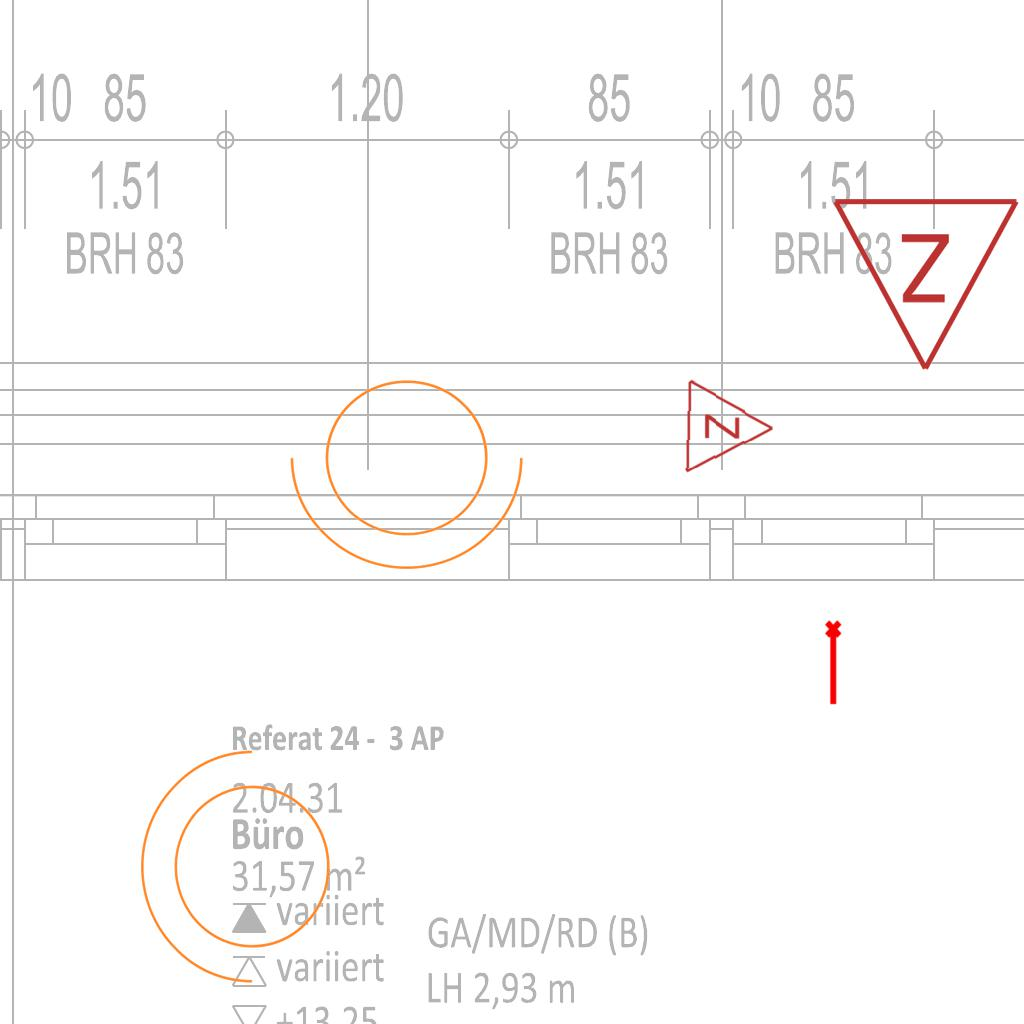ASR_Ansaugoeffnung: (823, 619, 846, 707)
Scheinwerfer_fuer_Alarmbeleuchtung: (130, 741, 355, 1005), (281, 355, 545, 580)
Zimmersignalleuchte: (830, 184, 1024, 384), (678, 375, 782, 477)
